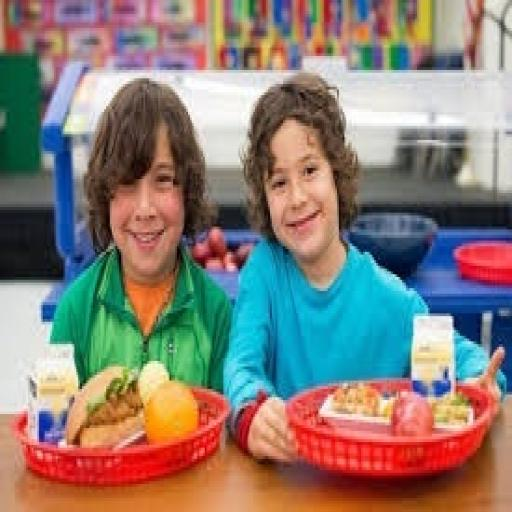eating: (222, 70, 506, 464), (46, 73, 234, 397)
